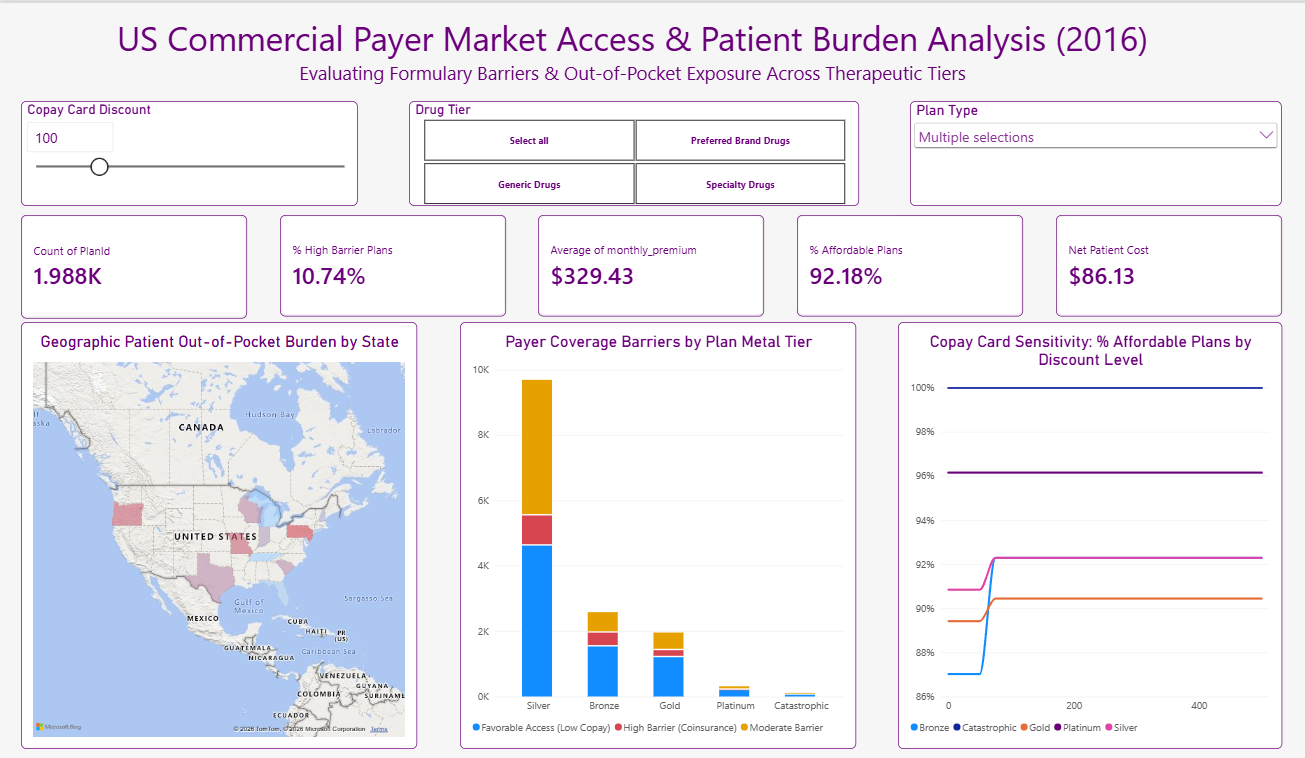

This screenshot's page, from the dashboard's own definition file:
{"tool":"powerbi","page":{"name":"Page 1","canvas":[1920,1080],"ordinal":0},"visuals":[{"type":"textbox","box":[0,17.1,1807.1,101.4],"z":0},{"type":"slicer","fields":{"Values":["iqvia_market_access.drug_tier"]},"box":[584,140,643.4,150.3],"z":1000},{"type":"slicer","fields":{"Values":["iqvia_market_access.PlanType"]},"box":[1300,140.4,531.4,150],"z":2000,"group":"g3"},{"type":"cardVisual","title":"Total Plans Analyzed","fields":{"Data":["Count(iqvia_market_access.PlanId)"]},"box":[30,303.3,322.9,147.6],"z":3000,"group":"g1"},{"type":"filledMap","title":"Geographic Patient Out-of-Pocket Burden by State","fields":{"Category":["iqvia_market_access.StateCode"]},"box":[30,456.1,565.7,610],"z":3000,"group":"g2"},{"type":"cardVisual","title":"Avg Monthly Premium","fields":{"Data":["Avg(iqvia_market_access.monthly_premium)"]},"box":[769.3,303.3,322.9,144.8],"z":4000,"group":"g1"},{"type":"columnChart","title":"Payer Coverage Barriers by Plan Metal Tier","fields":{"Category":["iqvia_market_access.MetalLevel"],"Series":["iqvia_market_access.access_tier"],"Y":["CountNonNull(iqvia_market_access.PlanId)"]},"box":[656.4,456.1,565.7,610],"z":4000,"group":"g2"},{"type":"slicer","fields":{"Values":["Copay Card Discount.Copay Card Discount"]},"box":[30,140.4,481.4,150],"z":5000,"group":"g3"},{"type":"cardVisual","title":"Net Patient Cost","fields":{"Data":["iqvia_market_access.% Affordable Plans"]},"box":[1138.9,303.3,322.9,144.8],"z":5000,"group":"g1"},{"type":"group","id":"g1","title":"Group 1","box":[30,303.3,1801.4,144.3],"z":6000},{"type":"cardVisual","title":"% High Barrier Plans","fields":{"Data":["iqvia_market_access.% High Barrier Plans"]},"box":[399.6,303.3,322.9,144.8],"z":6000,"group":"g1"},{"type":"lineChart","title":"Copay Card Sensitivity: % Affordable Plans by Discount Level","fields":{"Category":["Copay Card Discount.Copay Card Discount"],"Series":["iqvia_market_access.MetalLevel"],"Y":["iqvia_market_access.Simulated Affordability Curve"]},"box":[1282.9,456.1,548.6,610],"z":7000,"group":"g2"},{"type":"group","id":"g2","title":"Group 2","box":[30,456.1,1801.4,610],"z":7001},{"type":"group","id":"g3","title":"Group 3","box":[30,140.4,1801.4,150],"z":7002},{"type":"cardVisual","fields":{"Data":["iqvia_market_access.Net Patient Cost"]},"box":[1508.6,303.3,322.9,144.8],"z":9001,"group":"g1"}]}

Visuals, with their boxes in screenshot pixels (x1, y1, x2, y2):
textbox: pyautogui.locateOnScreen(3, 12, 1259, 82)
slicer - iqvia_market_access.drug_tier: pyautogui.locateOnScreen(409, 97, 856, 202)
slicer - iqvia_market_access.PlanType: pyautogui.locateOnScreen(907, 98, 1276, 202)
"Total Plans Analyzed" cardVisual: pyautogui.locateOnScreen(24, 211, 249, 313)
"Geographic Patient Out-of-Pocket Burden by State" filledMap: pyautogui.locateOnScreen(24, 317, 417, 741)
"Avg Monthly Premium" cardVisual: pyautogui.locateOnScreen(538, 211, 762, 311)
"Payer Coverage Barriers by Plan Metal Tier" columnChart: pyautogui.locateOnScreen(460, 317, 853, 741)
slicer - Copay Card Discount.Copay Card Discount: pyautogui.locateOnScreen(24, 98, 359, 202)
"Net Patient Cost" cardVisual: pyautogui.locateOnScreen(795, 211, 1019, 311)
"Group 1" group: pyautogui.locateOnScreen(24, 211, 1276, 311)
"% High Barrier Plans" cardVisual: pyautogui.locateOnScreen(281, 211, 505, 311)
"Copay Card Sensitivity: % Affordable Plans by Discount Level" lineChart: pyautogui.locateOnScreen(895, 317, 1276, 741)
"Group 2" group: pyautogui.locateOnScreen(24, 317, 1276, 741)
"Group 3" group: pyautogui.locateOnScreen(24, 98, 1276, 202)
cardVisual - iqvia_market_access.Net Patient Cost: pyautogui.locateOnScreen(1052, 211, 1276, 311)
